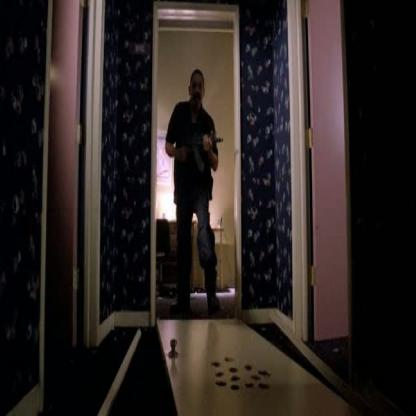Guns: (180, 128, 226, 175)
